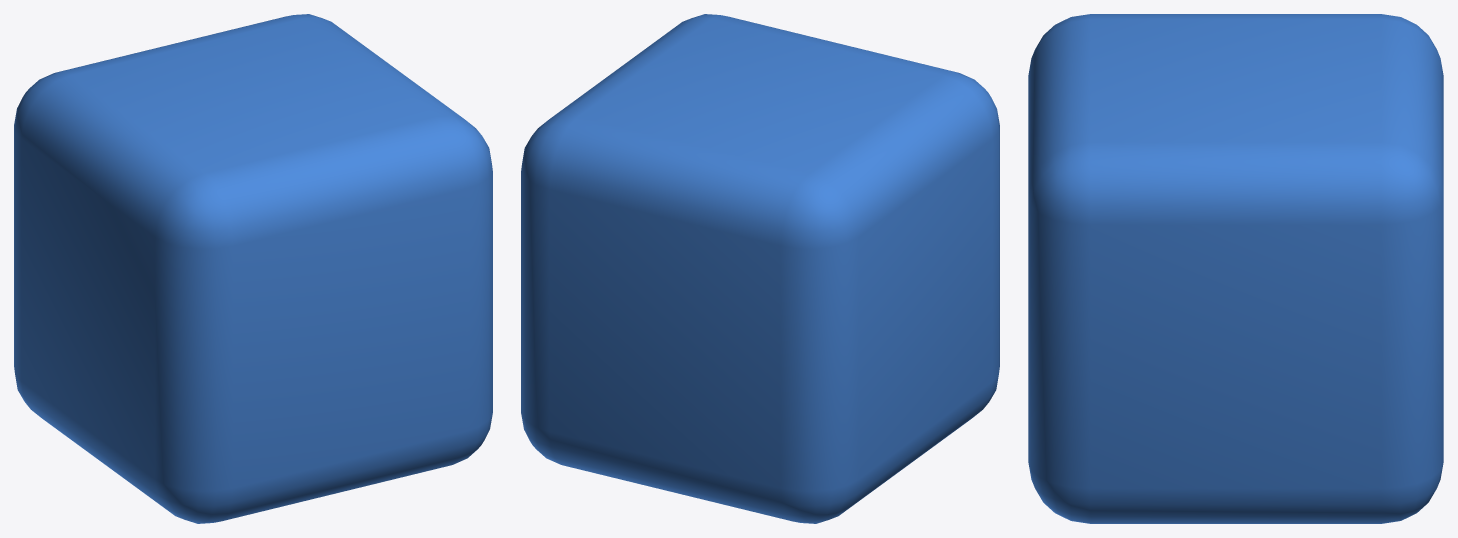
3 views of the same model, side by side, from view 1: azimuth 30°, elevation 25°; view 2: azimuth 150°, elevation 25°; view 3: azimuth 270°, elevation 25° (orthographic). The views are drawn at different scales.
Visible parts, largest first — view 1: Cube.001; view 2: Cube.001; view 3: Cube.001.
Boxes of the visible parts, x1,y1,x2,y2 form: Cube.001: (14, 14, 492, 523); Cube.001: (521, 14, 999, 523); Cube.001: (1028, 14, 1443, 523).
Bounding box in the file's own units: 2 × 2 × 2.
